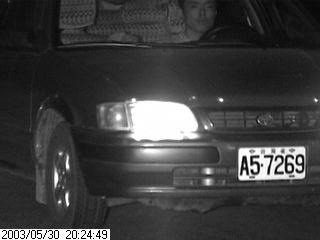plate: (236, 146, 308, 181)
